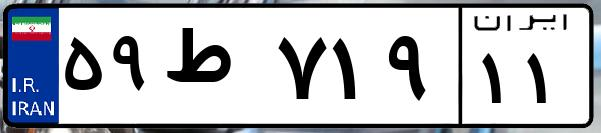1: (330, 28, 385, 110), (475, 38, 525, 113), (525, 38, 570, 115)
5: (57, 26, 110, 100)
7: (270, 28, 330, 110)
9: (385, 28, 445, 110), (110, 28, 158, 98)
ط: (158, 20, 270, 120)
